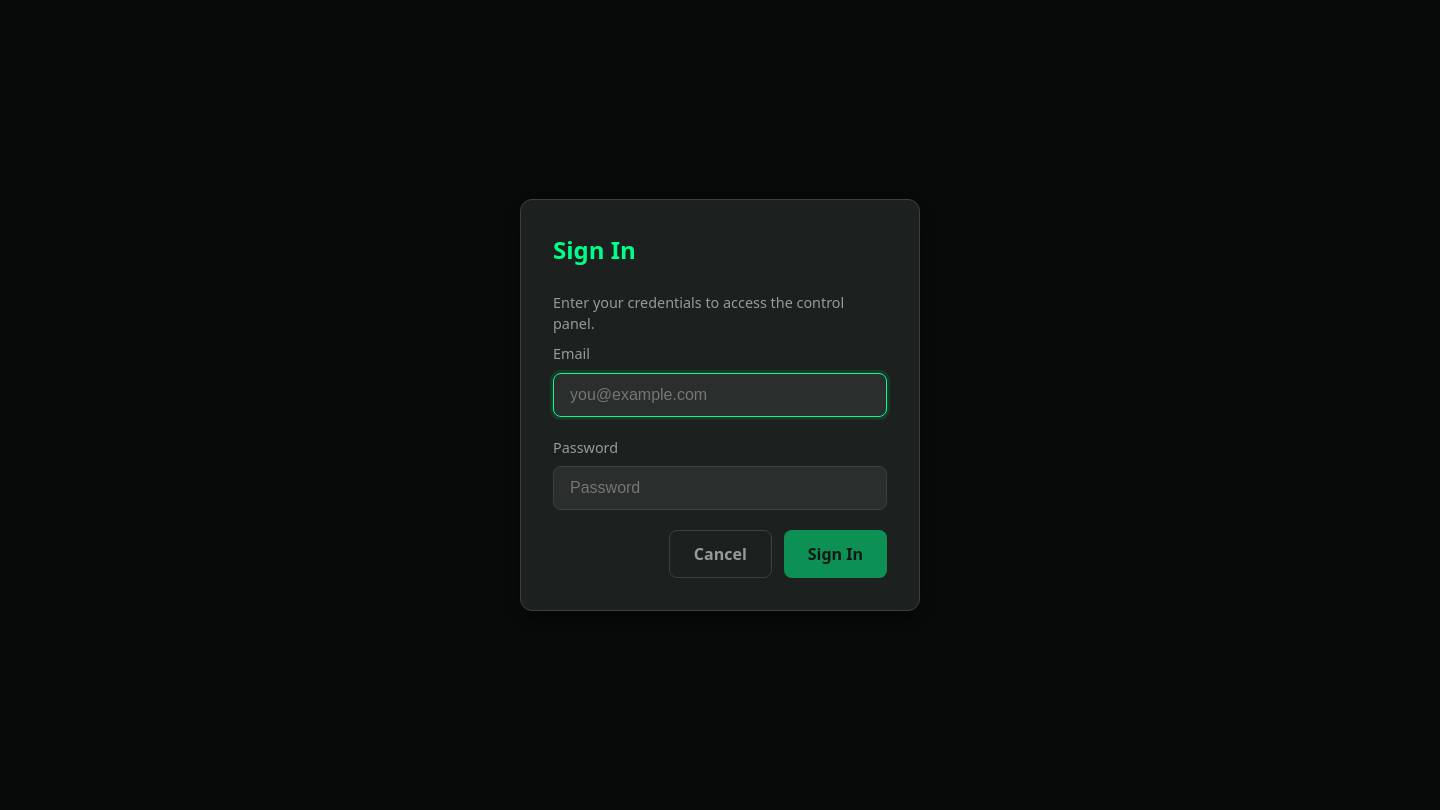
Scenario: LoginDialog › test_login_network_error_shows_error — shows "Unable to connect" on fetch throw
Type "operator@rideshare.com" into the field labelled "Email". click: x=720, y=395
box: [553,373,887,417]
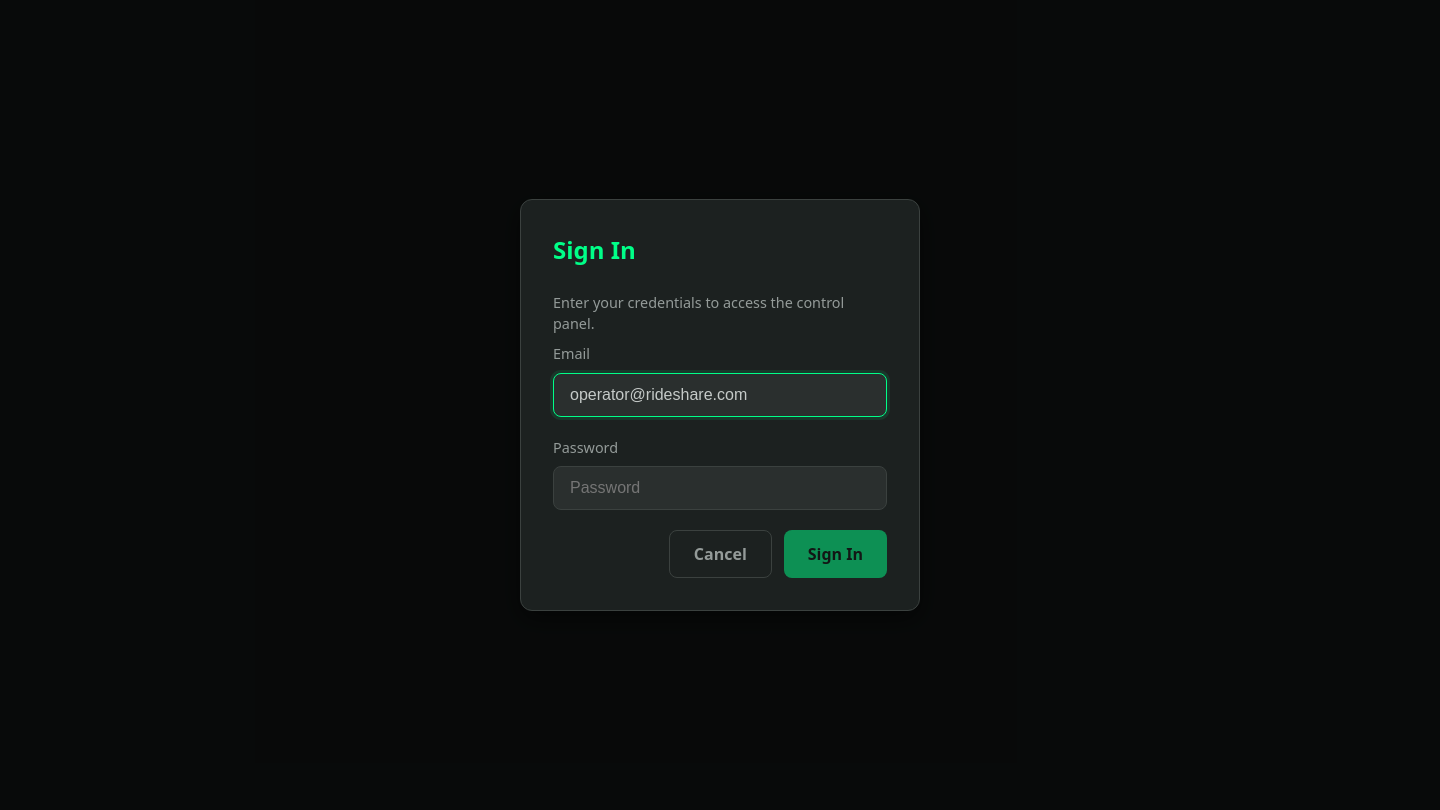
Type "secret123" into the password field labelled "Password". click: x=720, y=488
box: [553,466,887,510]
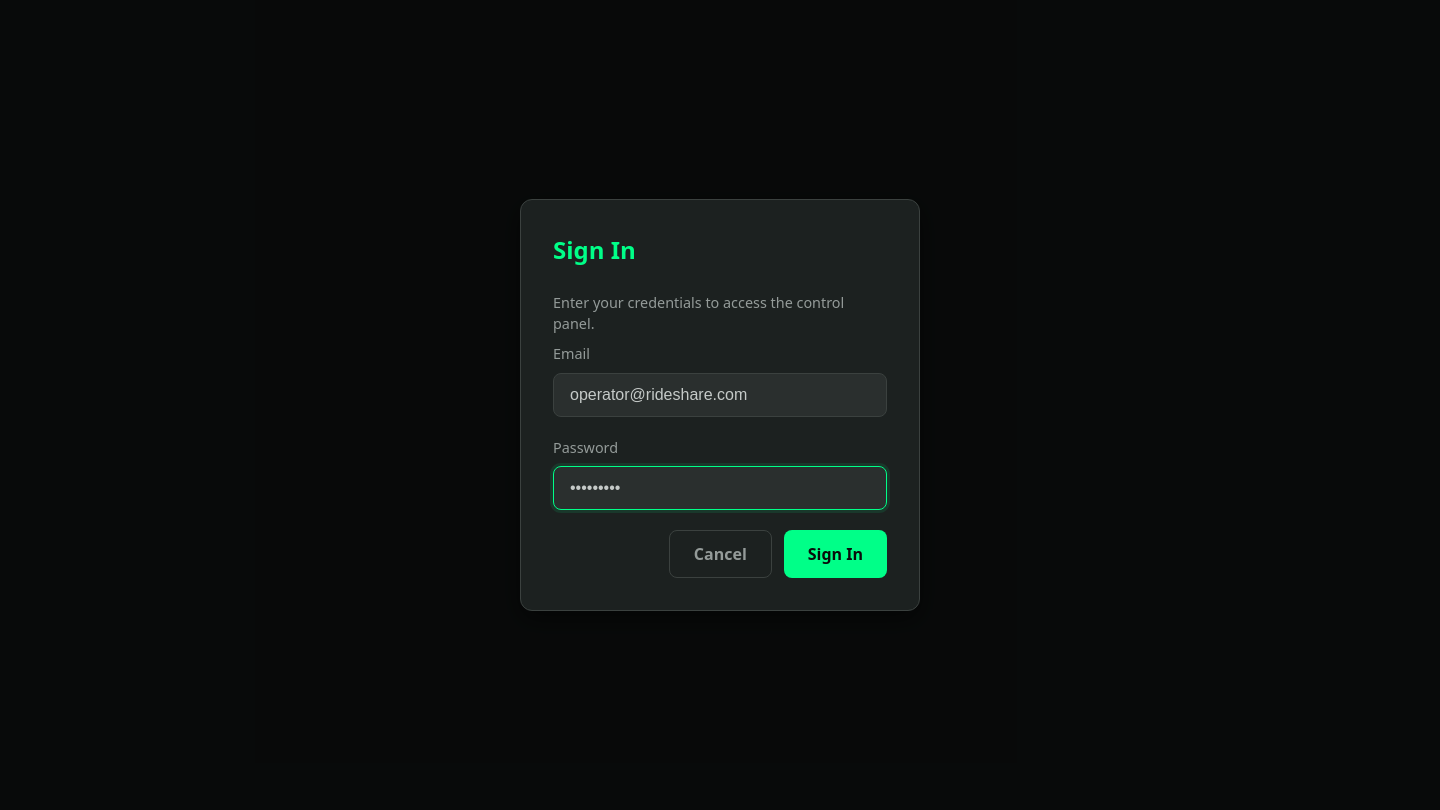
Click the button "Sign In". click: x=835, y=554
box: [784,530,887,578]
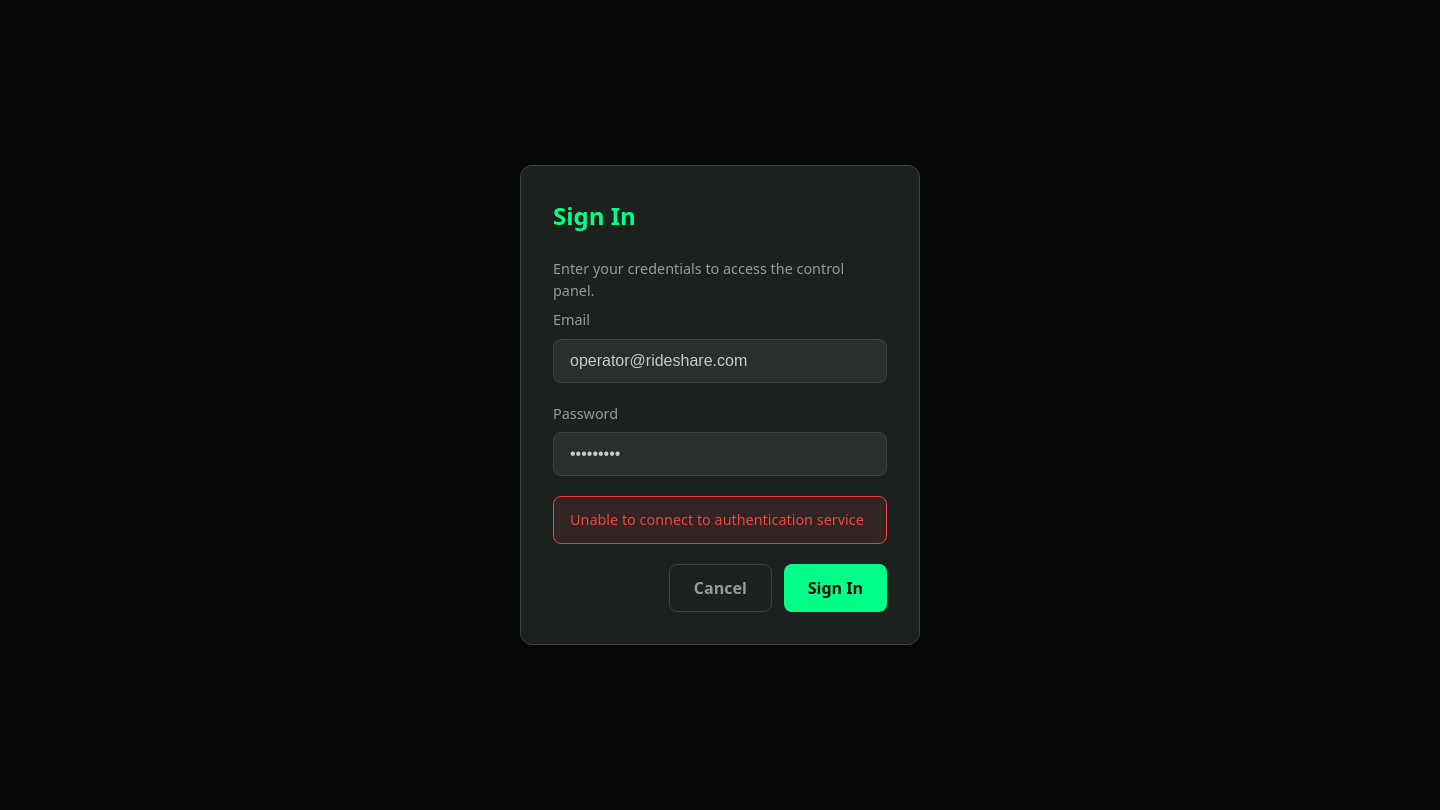
Check: the text "Unable to connect to authentication service" is shown, box [553,496,887,544]
